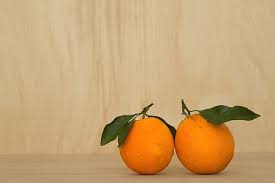orange: (175, 111, 237, 177), (118, 114, 175, 179)
